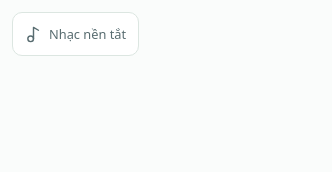
it: optional background music › keeps music off if the user stops it while playback is still starting
This screenshot has width=332, height=172.
Click the button with aria-label "Bật nhạc nền": coordinates (76, 34) x1=12 y1=12 x2=139 y2=56
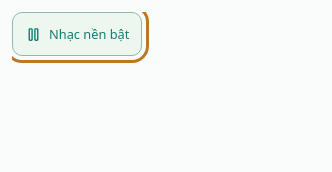
Click the button with aria-label "Tắt nhạc nền": coordinates (77, 34) x1=12 y1=12 x2=142 y2=56
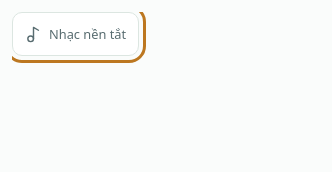
Result: the button with aria-label "Bật nhạc nền" is not pressed at x1=12 y1=12 x2=139 y2=56
